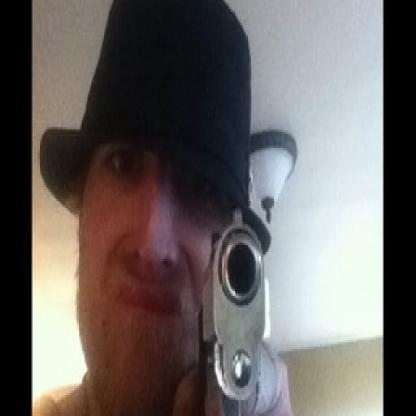gun: (193, 206, 269, 414)
